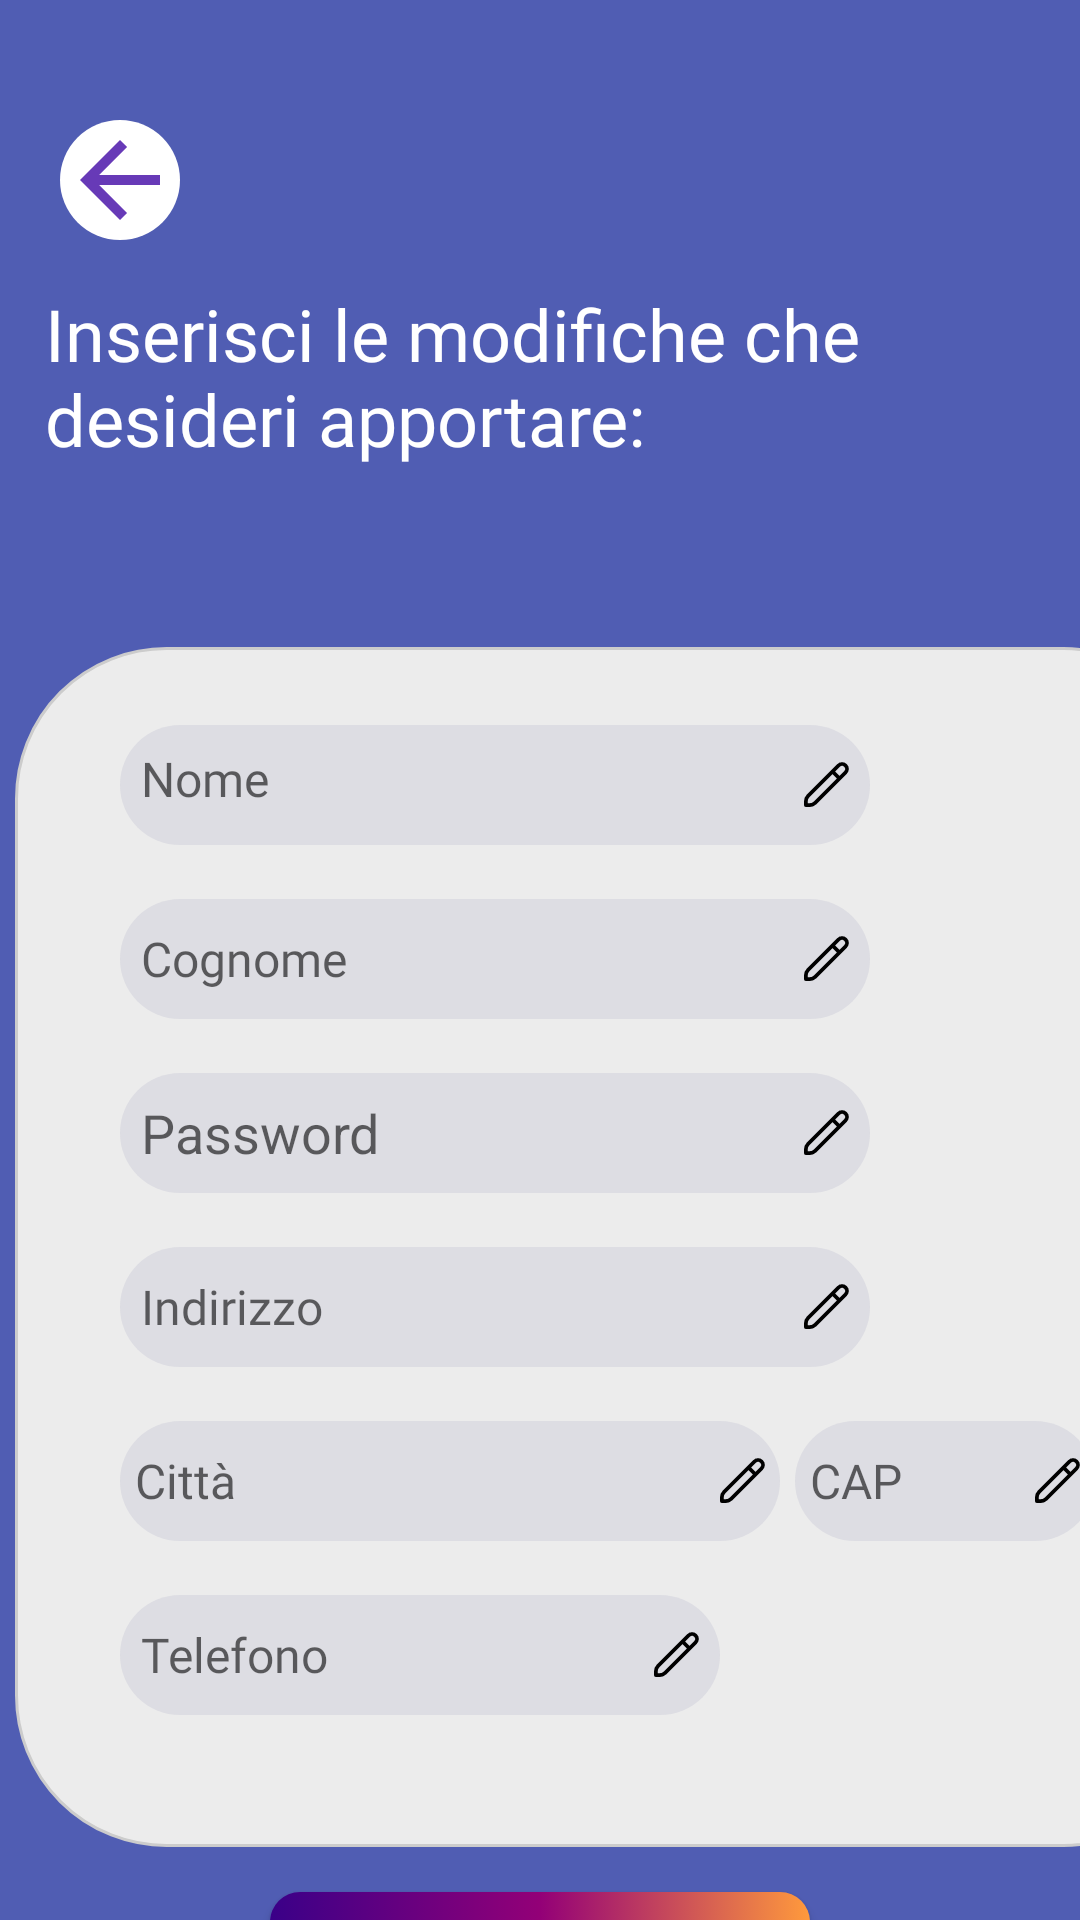

Icon bounding boxes for this 1080px x 1920px phone screenshot, format (x1, y1, x2, y2):
backarrow: (60, 120, 180, 240)
